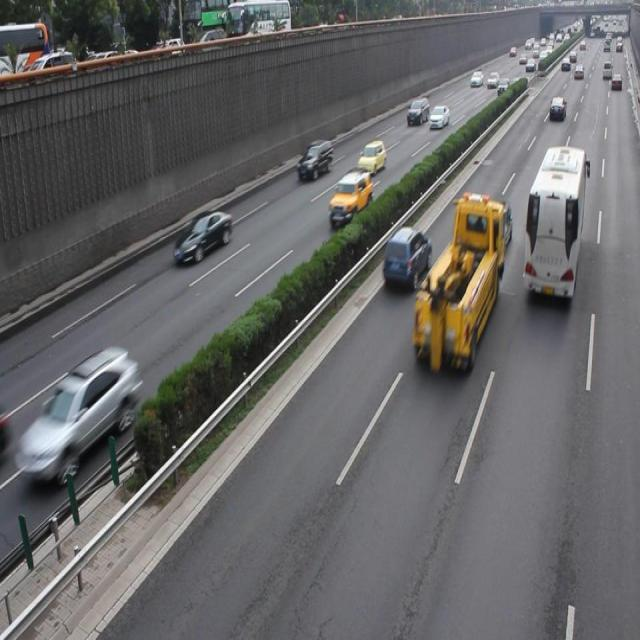bus: (411, 192, 504, 370)
car: (31, 347, 136, 486), (173, 209, 232, 266), (380, 225, 430, 289), (327, 170, 372, 226), (482, 198, 511, 250), (357, 139, 385, 174)
truck: (297, 139, 333, 181)
van: (522, 144, 585, 298)
